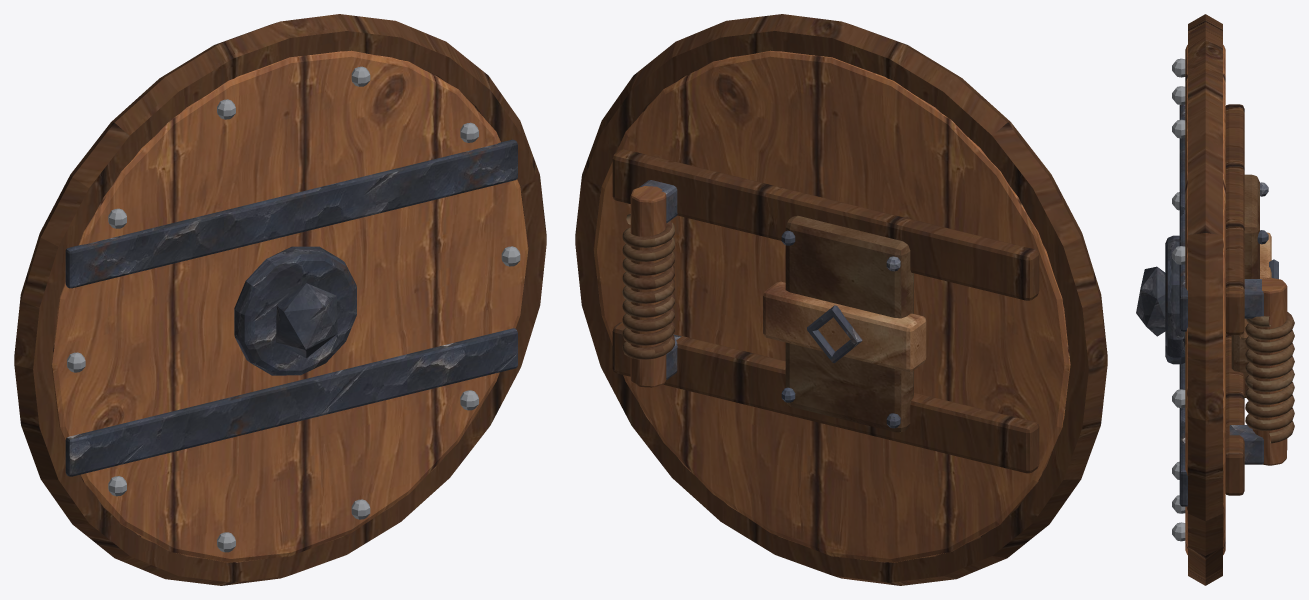
File: shield_stone.glb
3 views of the same model, side by side, from view 1: azimuth 30°, elevation 25°; view 2: azimuth 150°, elevation 25°; view 3: azimuth 270°, elevation 25° (orthographic). The views are drawn at different scales.
Visible parts, largest first — view 1: model; view 2: model; view 3: model.
Boxes of the visible parts, box(x1,y1,x2,y2) form: model: box(14, 14, 546, 585); model: box(575, 14, 1107, 585); model: box(1136, 14, 1294, 585).
Bounding box in the file's own units: 0.71 × 0.71 × 0.1972.
8 materials, 7 textured.
